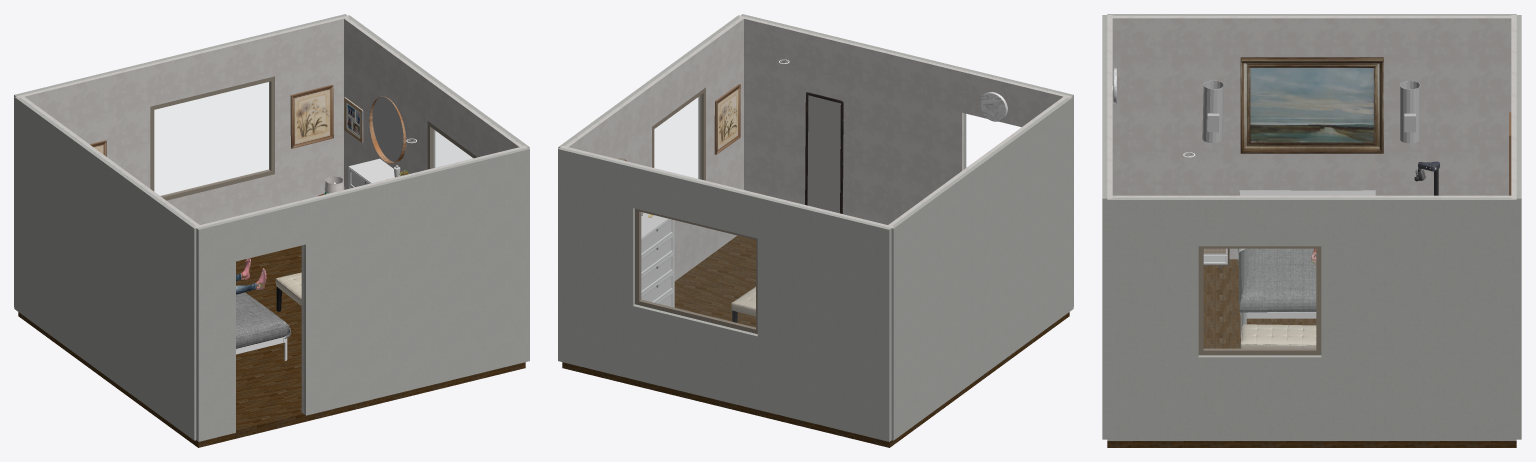
3 views of the same model, side by side, from view 1: azimuth 30°, elevation 25°; view 2: azimuth 150°, elevation 25°; view 3: azimuth 270°, elevation 25° (orthographic). The views are drawn at different scales.
Parts seen in each view (by area): view 1: world (×12), room_geometry_bedroom__v0, glass (×2), frame (×2), Shader1.001, P_2fd1f4982963c354.001; view 2: world (×11), glass (×2), room_geometry_bedroom__v0, frame (×2), Shader1.001, P_8fc12e17d7c19c39.001, P_ee6e97b011058d54.001, P_779afc3812688354.001, P_f6dd0bf09c3be439.001; view 3: world (×11), glass, room_geometry_bedroom__v0, Metal___Stainless_steel_2017.002 (×2), frame.
Part boxes in pixels (bbox=[...]): world (×12): bbox=[14, 14, 529, 441]; room_geometry_bedroom__v0: bbox=[18, 245, 525, 447]; glass (×2): bbox=[154, 82, 472, 196]; frame (×2): bbox=[150, 76, 477, 200]; Shader1.001: bbox=[290, 84, 333, 148]; P_2fd1f4982963c354.001: bbox=[348, 158, 399, 188]; world (×11): bbox=[558, 14, 1073, 441]; glass (×2): bbox=[640, 95, 755, 327]; room_geometry_bedroom__v0: bbox=[562, 235, 1069, 447]; frame (×2): bbox=[635, 87, 757, 333]; Shader1.001: bbox=[714, 84, 740, 154]; P_8fc12e17d7c19c39.001: bbox=[641, 253, 673, 294]; P_ee6e97b011058d54.001: bbox=[641, 234, 673, 276]; P_779afc3812688354.001: bbox=[641, 219, 673, 257]; P_f6dd0bf09c3be439.001: bbox=[641, 272, 673, 302]; world (×11): bbox=[1102, 14, 1521, 440]; glass: bbox=[1204, 249, 1315, 348]; room_geometry_bedroom__v0: bbox=[1107, 259, 1516, 447]; Metal___Stainless_steel_2017.002 (×2): bbox=[1202, 80, 1420, 143]; frame: bbox=[1198, 246, 1321, 355].
Size of the model in its own units: 4.3 by 2.7 by 4.1.
Materials: 58 (28 with a texture image).
